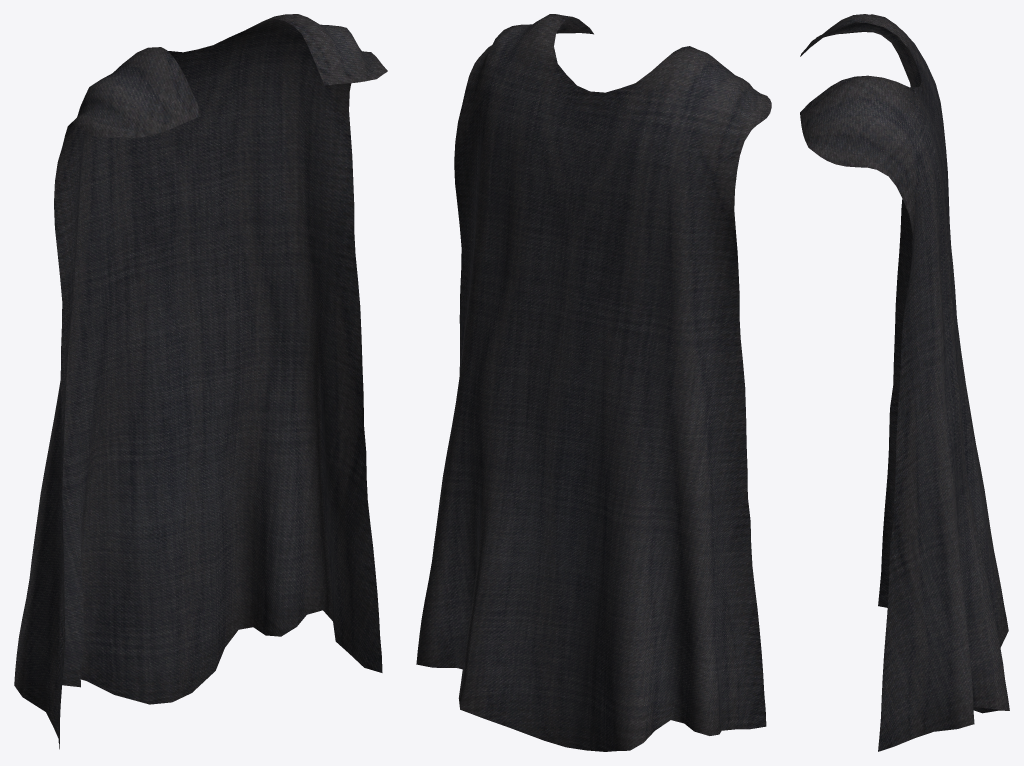
File: clo_sk_northern_pauldron_cape_c.fbx
3 views of the same model, side by side, from view 1: azimuth 30°, elevation 25°; view 2: azimuth 150°, elevation 25°; view 3: azimuth 270°, elevation 25° (orthographic). The views are drawn at different scales.
Parts seen in each view (by area): view 1: clo_sk_northern_pauldron_cape_c; view 2: clo_sk_northern_pauldron_cape_c; view 3: clo_sk_northern_pauldron_cape_c.
Part boxes in pixels (left/top/right/bottom): clo_sk_northern_pauldron_cape_c: left=14, top=14, right=387, bottom=749; clo_sk_northern_pauldron_cape_c: left=416, top=14, right=771, bottom=751; clo_sk_northern_pauldron_cape_c: left=800, top=14, right=1009, bottom=751.
Size of the model in its own units: 0.7246 by 0.4402 by 1.52.
1 material, 1 textured.
